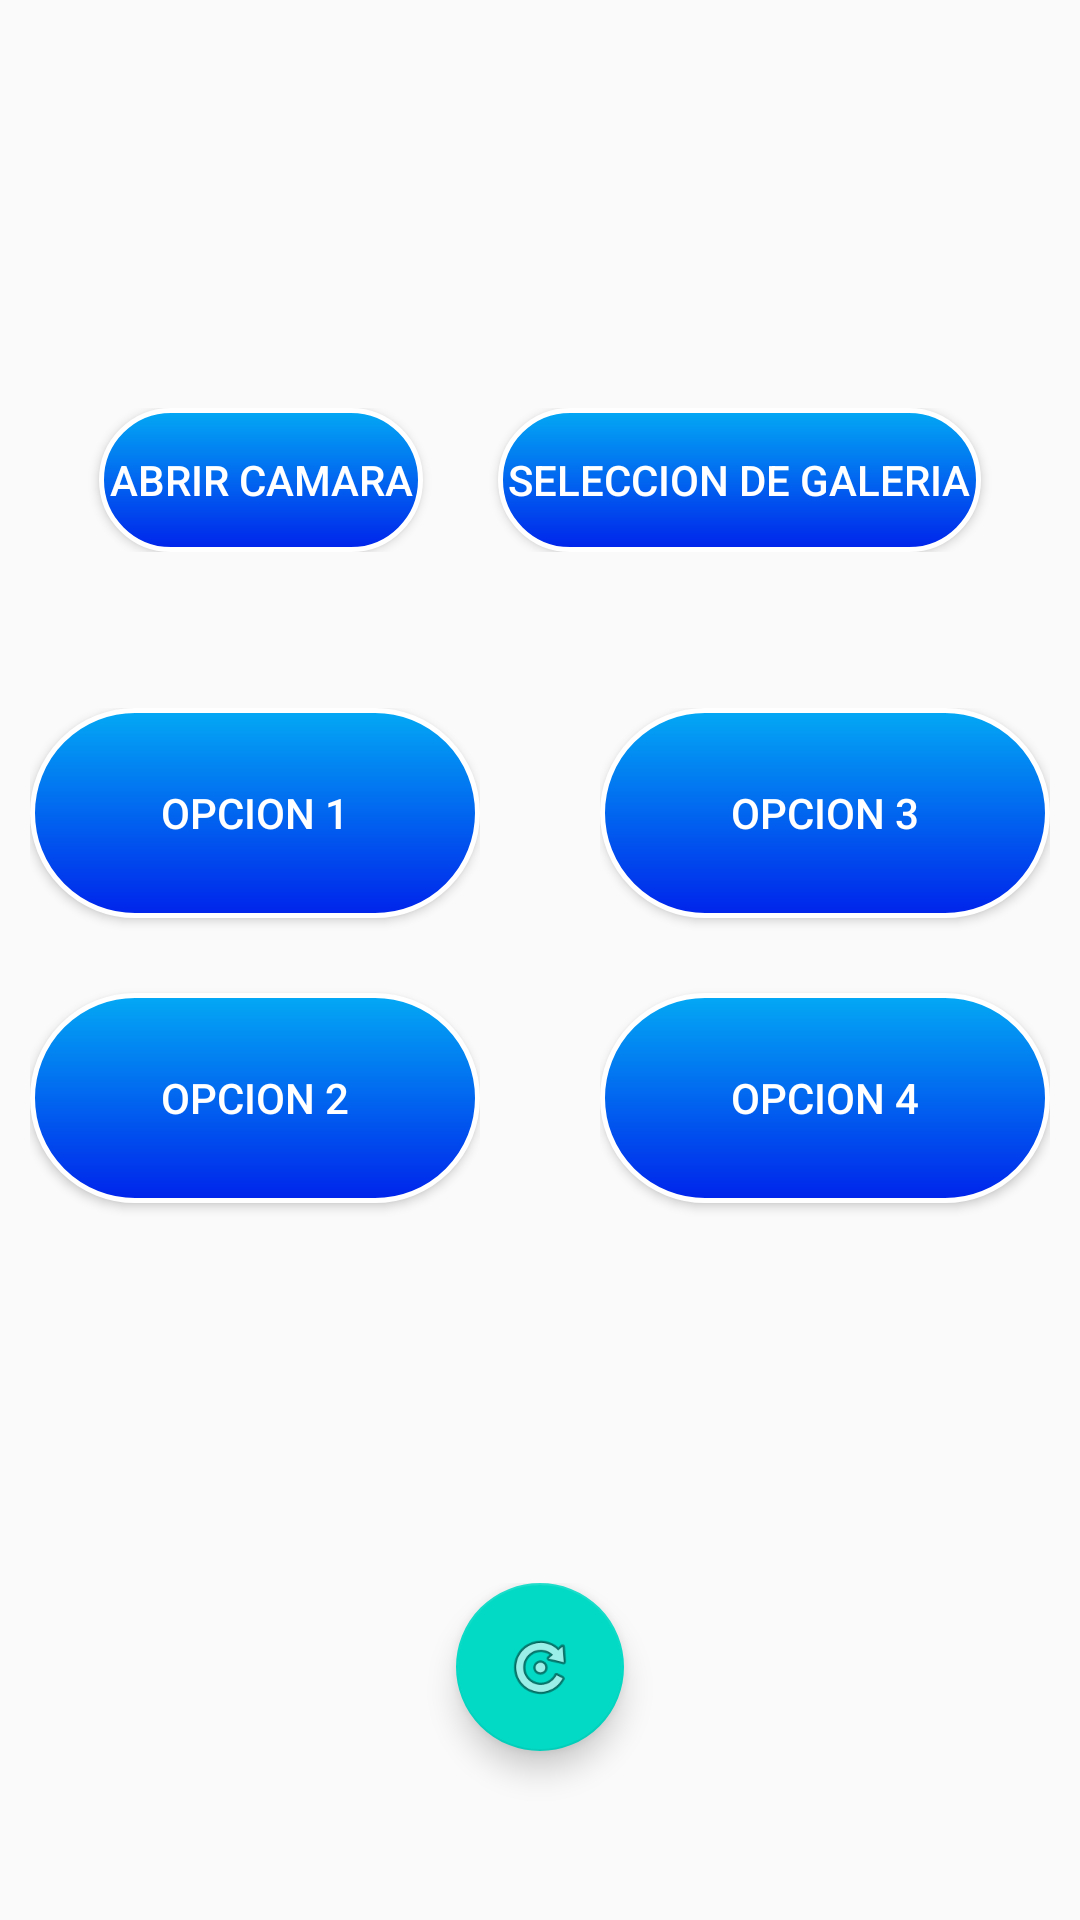

Icons on this 1080x1920 Android screen, each with the point to tap as (x=x, y=y):
rotate: (x=540, y=1667)
